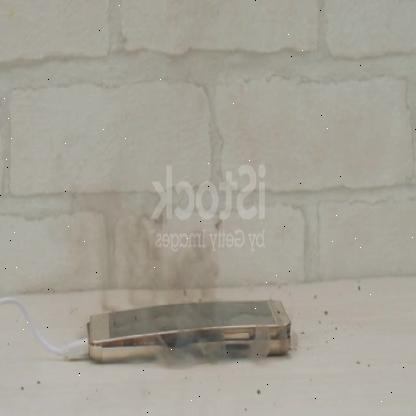smoke: (79, 145, 225, 373)
